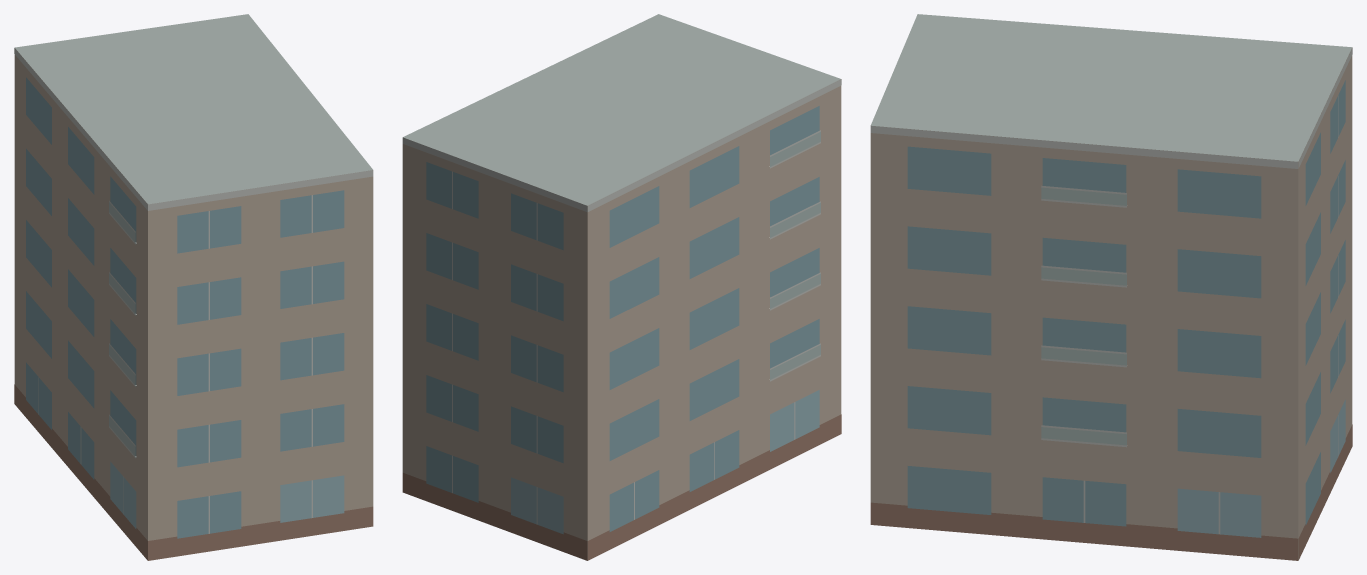
File: survey-upis-32992668.glb
3 views of the same model, side by side, from view 1: azimuth 30°, elevation 25°; view 2: azimuth 150°, elevation 25°; view 3: azimuth 270°, elevation 25° (orthographic). The views are drawn at different scales.
Parts seen in each view (by area): view 1: survey-upis-32992668.tmp; view 2: survey-upis-32992668.tmp; view 3: survey-upis-32992668.tmp.
Boxes of the visible parts, left/top/right/bottom form: survey-upis-32992668.tmp: left=14, top=14, right=373, bottom=560; survey-upis-32992668.tmp: left=402, top=14, right=841, bottom=560; survey-upis-32992668.tmp: left=870, top=14, right=1352, bottom=560.
Size of the model in its own units: 10.61 by 13.35 by 14.62.
